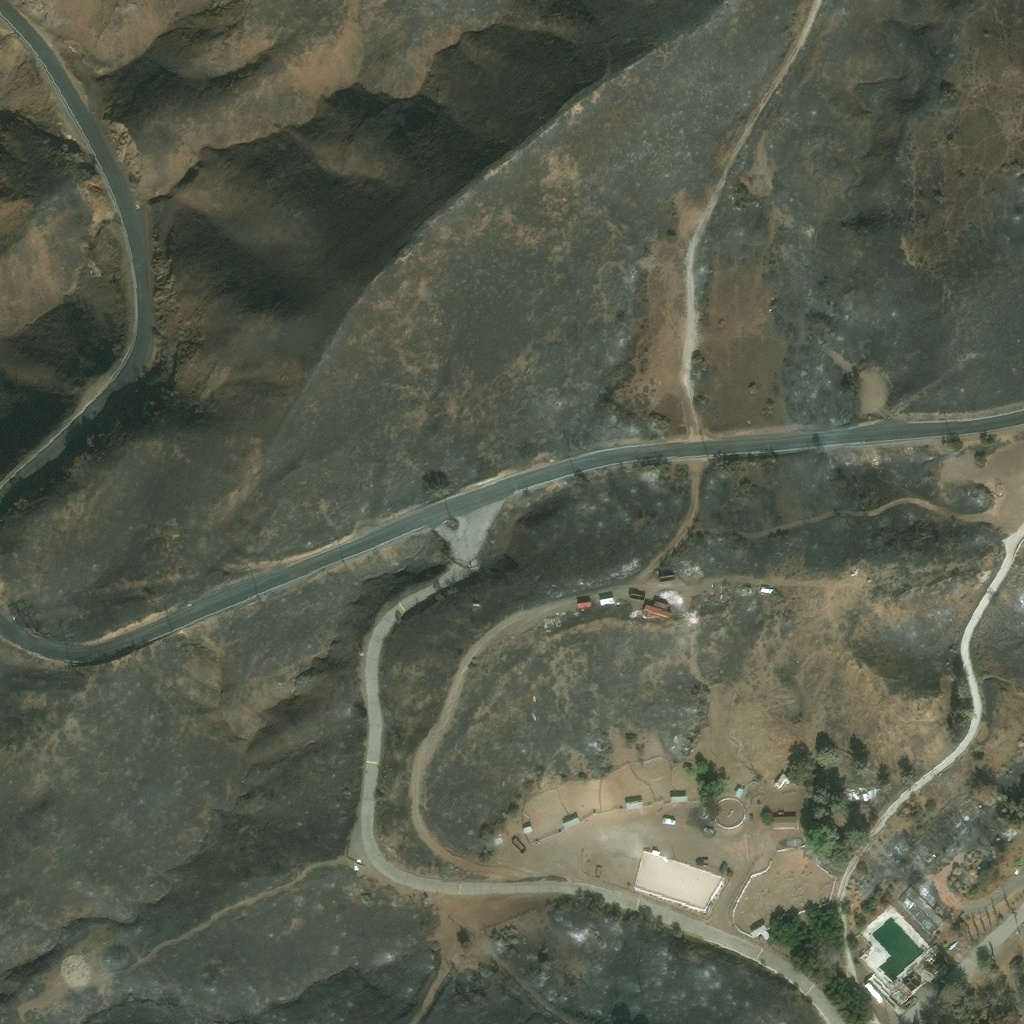0 no-damage: (750, 922, 774, 945), (863, 980, 883, 1002), (772, 772, 793, 790), (772, 815, 797, 829), (562, 815, 580, 829), (625, 799, 643, 808), (733, 786, 743, 798), (670, 795, 687, 802), (522, 825, 533, 833), (652, 849, 659, 854)
3 destroyed: (904, 884, 944, 927), (898, 891, 937, 932), (902, 959, 932, 989), (974, 854, 996, 881), (913, 843, 936, 864), (844, 786, 881, 798), (958, 796, 979, 817), (891, 980, 910, 999), (926, 949, 943, 969), (920, 888, 938, 905), (991, 831, 1003, 843), (588, 855, 596, 864), (357, 647, 365, 656), (595, 865, 601, 875)
